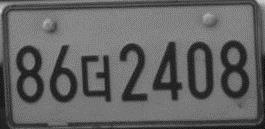0: (186, 41, 215, 100)
2: (117, 41, 149, 102)
4: (150, 39, 184, 103)
6: (49, 44, 77, 102)
8: (219, 39, 250, 100), (14, 43, 45, 103)
더: (78, 52, 113, 103)
